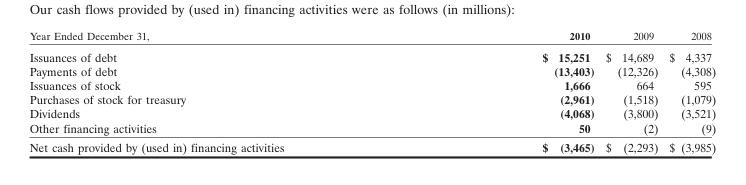table: (28, 28, 715, 154)
table column: (28, 28, 412, 154), (412, 28, 599, 154), (599, 28, 663, 154), (663, 28, 715, 154)
table column header: (28, 28, 715, 45)
table row: (28, 45, 715, 63), (28, 28, 715, 45), (28, 120, 715, 137), (28, 137, 715, 154), (28, 77, 715, 92), (28, 63, 715, 77), (28, 92, 715, 106), (28, 106, 715, 120)
